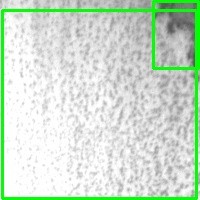patches: (153, 1, 198, 68)
pitted_surface: (2, 10, 196, 198)
